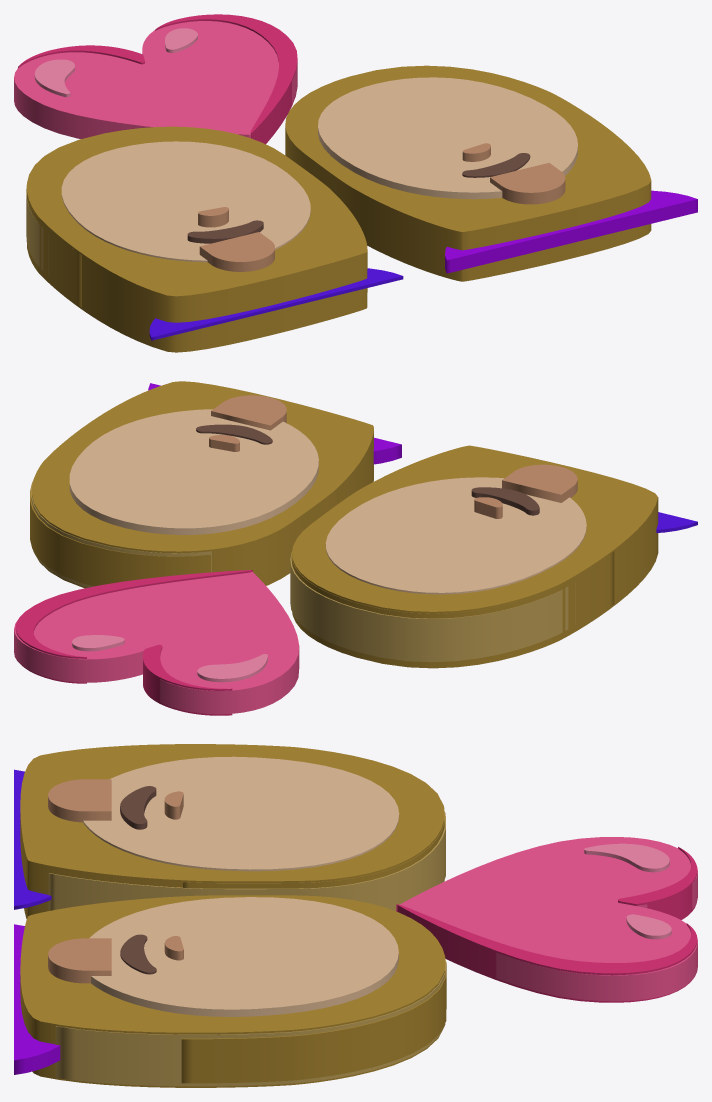
File: emoji_u1f469_1f3fc_200d_2764_200d_1f469_1f3fc.glb
The picture shows the model from 3 angles, top to bottom: view 1: azimuth 30°, elevation 25°; view 2: azimuth 150°, elevation 25°; view 3: azimuth 270°, elevation 25°; orthographic projection. The views are drawn at different scales.
Parts seen in each view (by area): view 1: emoji_u1f469_1f3fc_200d_2764_200d_1f469_1f3fc; view 2: emoji_u1f469_1f3fc_200d_2764_200d_1f469_1f3fc; view 3: emoji_u1f469_1f3fc_200d_2764_200d_1f469_1f3fc.
Boxes of the visible parts, box(x1,y1,x2,y2) form: emoji_u1f469_1f3fc_200d_2764_200d_1f469_1f3fc: box(14, 14, 697, 352); emoji_u1f469_1f3fc_200d_2764_200d_1f469_1f3fc: box(14, 381, 697, 715); emoji_u1f469_1f3fc_200d_2764_200d_1f469_1f3fc: box(14, 744, 697, 1087).
Size of the model in its own units: 0.0346 by 0.005 by 0.0337.
